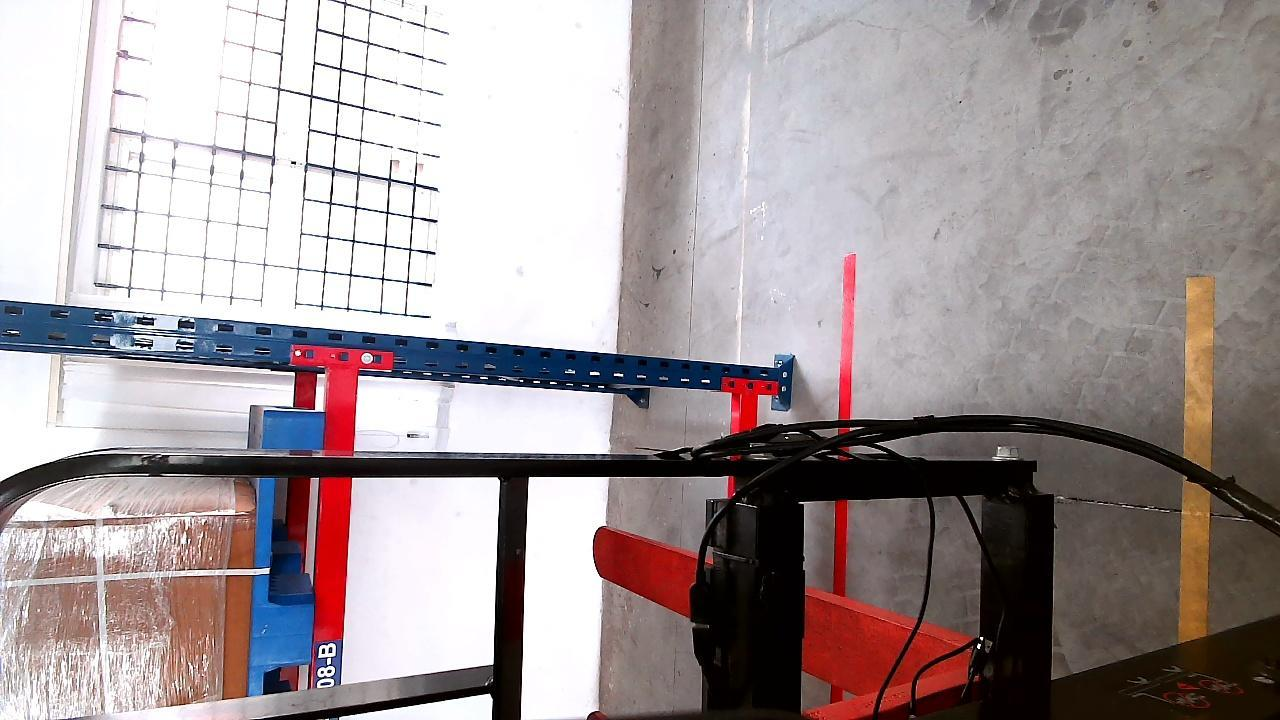red_line: (832, 254, 856, 595)
yellow_line: (1180, 266, 1213, 653)
